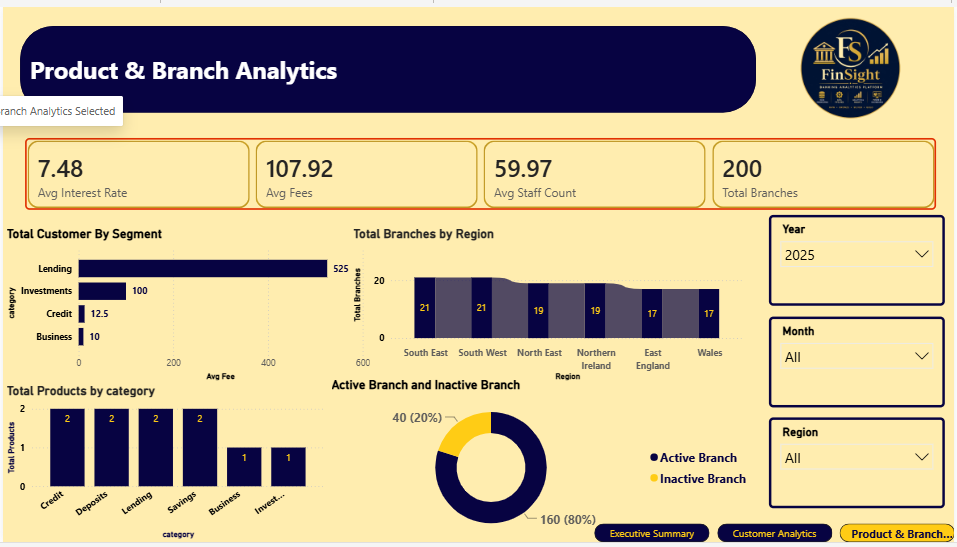

What the dashboard file says about the page in this screenshot:
{"tool":"powerbi","page":{"name":"Product & Branch Analytics","canvas":[1280,720],"ordinal":2},"visuals":[{"type":"shape","box":[23.3,25,990,116.7],"z":0},{"type":"cardVisual","fields":{"Data":["Avg(vw_gold_product_summary.avg_interest_rate)","Avg(vw_gold_product_summary.avg_fee)","Avg(vw_gold_branch_summary.avg_staff_count)","Sum(vw_gold_branch_summary.total_branches)"]},"box":[10.1,156.2,1269.9,137.7],"z":1000},{"type":"clusteredColumnChart","fields":{"Category":["vw_gold_product_summary.category"],"Y":["Sum(vw_gold_product_summary.total_products)"]},"box":[0,506.7,436.7,213.3],"z":2000},{"type":"donutChart","fields":{"Y":["Sum(vw_gold_branch_summary.active_branches)","Sum(vw_gold_branch_summary.inactive_branches)"]},"box":[436.7,498.3,576.7,221.7],"z":3000},{"type":"slicer","fields":{"Values":["vw_gold_transaction_summary.transaction_year","vw_gold_transaction_summary.transaction_month"]},"box":[1030,280,236.7,121.7],"z":4000},{"type":"slicer","fields":{"Values":["vw_gold_transaction_summary.transaction_month"]},"box":[1030,416.7,236.7,121.7],"z":5000},{"type":"slicer","fields":{"Values":["vw_gold_branch_summary.region"]},"box":[1030,551.7,236.7,121.7],"z":6000},{"type":"image","box":[1013.3,15,253.3,135],"z":7000},{"type":"barChart","title":"Total Customer By Segment","fields":{"Category":["vw_gold_product_summary.category"],"Y":["Sum(vw_gold_product_summary.avg_fee)"]},"box":[0,295,498.3,211.7],"z":8000},{"type":"ribbonChart","title":"Total Branches by Region","fields":{"Category":["vw_gold_branch_summary.region"],"Y":["Sum(vw_gold_branch_summary.total_branches)"]},"box":[466.7,295,535,211.7],"z":9000},{"type":"pageNavigator","box":[795,695,485,25],"z":10000}]}

Visuals, with their boxes in screenshot pixels (x1, y1, x2, y2), scaled from the page's 1280x720 canvas onto the 957x547 screenshot:
shape: box=[17, 19, 758, 108]
cardVisual - Avg(vw_gold_product_summary.avg_interest_rate) x Avg(vw_gold_product_summary.avg_fee): box=[8, 119, 956, 223]
clusteredColumnChart - vw_gold_product_summary.category x Sum(vw_gold_product_summary.total_products): box=[0, 385, 327, 546]
donutChart - Sum(vw_gold_branch_summary.active_branches) x Sum(vw_gold_branch_summary.inactive_branches): box=[327, 379, 758, 546]
slicer - vw_gold_transaction_summary.transaction_year x vw_gold_transaction_summary.transaction_month: box=[770, 213, 947, 305]
slicer - vw_gold_transaction_summary.transaction_month: box=[770, 317, 947, 409]
slicer - vw_gold_branch_summary.region: box=[770, 419, 947, 512]
image: box=[758, 11, 947, 114]
"Total Customer By Segment" barChart: box=[0, 224, 373, 385]
"Total Branches by Region" ribbonChart: box=[349, 224, 749, 385]
pageNavigator: box=[594, 528, 956, 546]
